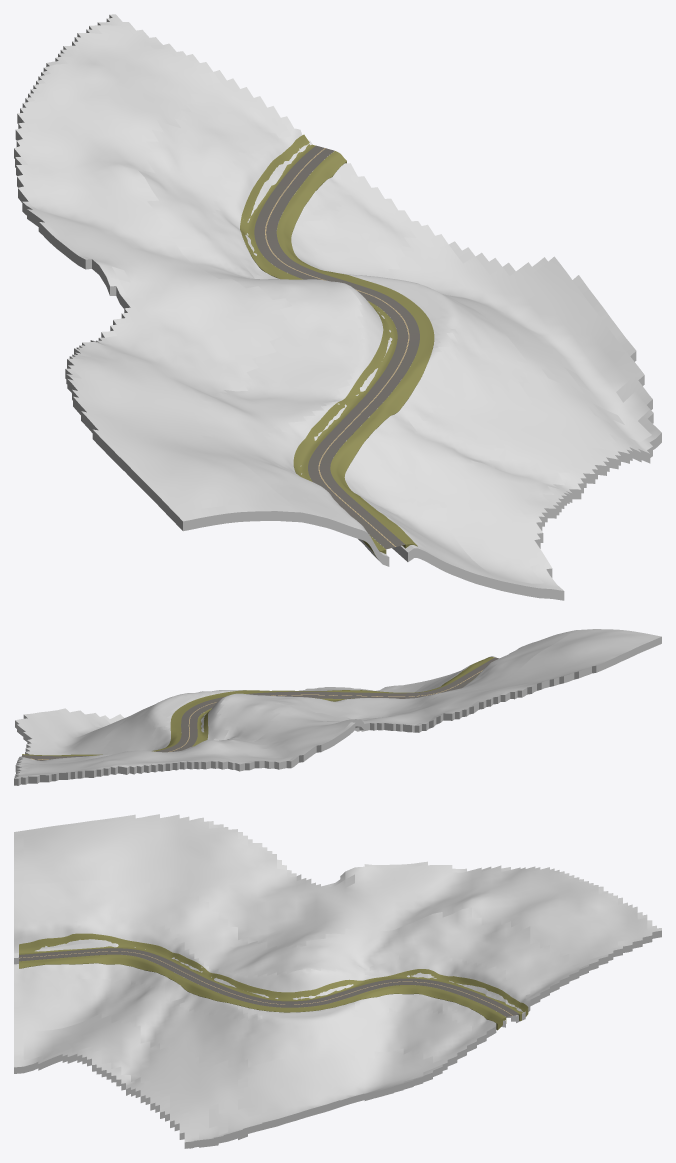
File: conz_190.glb
3 renders of one model, top to bottom at view 1: azimuth 30°, elevation 25°; view 2: azimuth 150°, elevation 25°; view 3: azimuth 270°, elevation 25°, orthographic. The views are drawn at different scales.
Visible parts, largest first — view 1: terrain190, road190, verge190R, verge190L; view 2: terrain190, road190, verge190R, verge190L, paint_yellow190; view 3: terrain190, verge190L, verge190R, road190.
Part boxes in pixels (<box>): terrain190: <box>14,14,661,600</box>; road190: <box>254,145,419,549</box>; verge190R: <box>276,151,434,548</box>; verge190L: <box>240,134,397,557</box>; terrain190: <box>14,629,661,785</box>; road190: <box>22,657,498,760</box>; verge190R: <box>22,657,494,756</box>; verge190L: <box>192,673,479,746</box>; paint_yellow190: <box>31,670,482,759</box>; terrain190: <box>14,814,661,1148</box>; verge190L: <box>19,933,528,1020</box>; verge190R: <box>19,954,506,1030</box>; road190: <box>19,948,519,1017</box>.
Bounding box in the file's own units: 204 × 74.97 × 266.
